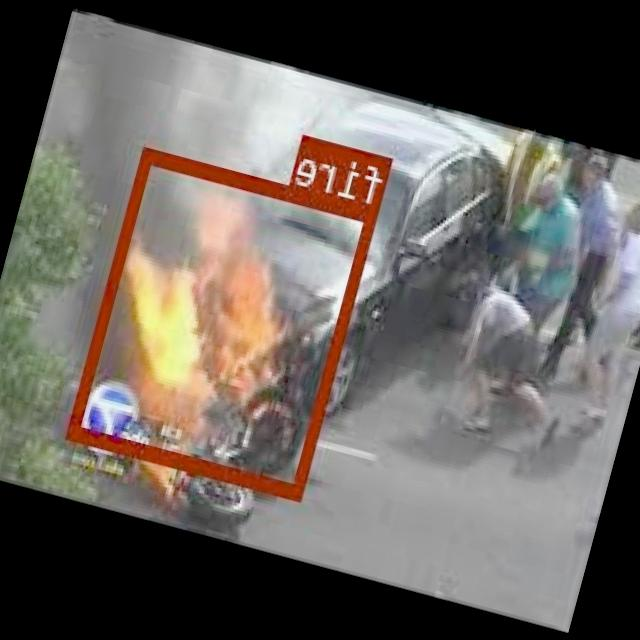fire: (68, 145, 382, 499)
